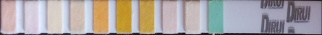color 1: (2, 2, 14, 31)
color 10: (210, 2, 222, 31)
color 2: (25, 2, 37, 32)
color 3: (48, 2, 60, 32)
color 4: (71, 3, 83, 31)
color 5: (94, 2, 106, 31)
color 6: (117, 2, 130, 31)
color 7: (140, 2, 152, 32)
color 8: (163, 3, 175, 32)
color 9: (186, 3, 198, 31)
